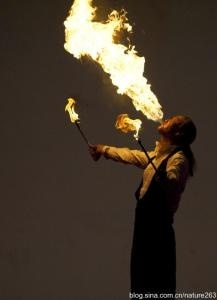fire: (61, 0, 169, 118), (113, 113, 143, 140), (62, 94, 79, 124)
